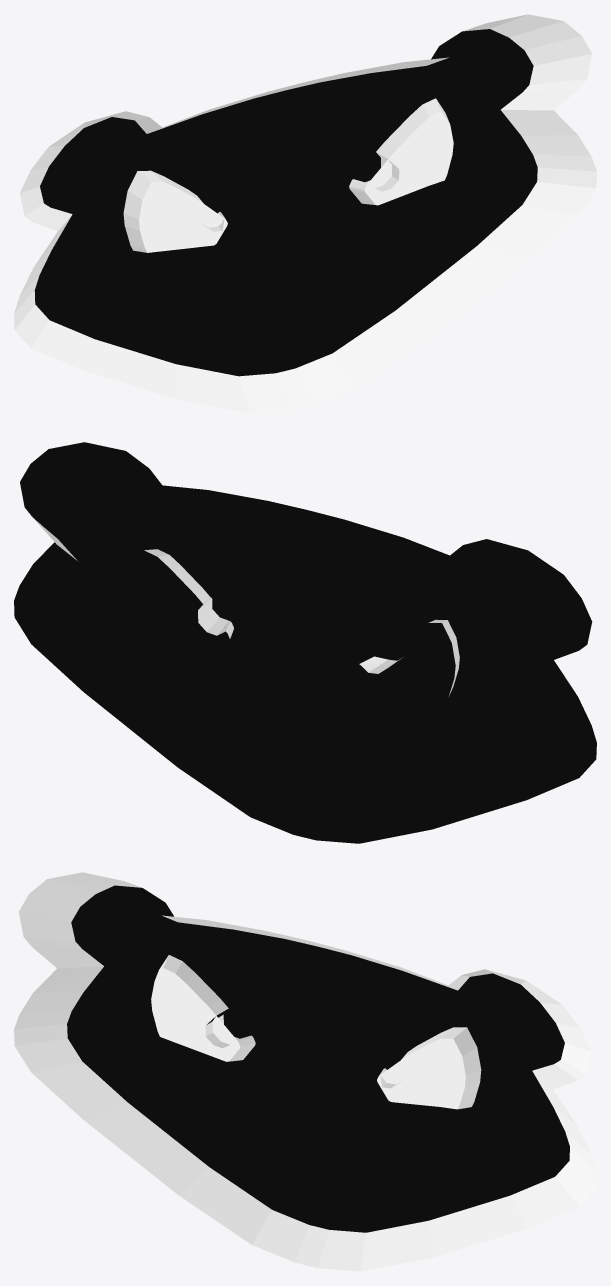
The model's file is ps2_save-icons_furfightersviggosrevenge.glb.
The picture shows the model from 3 angles, top to bottom: view 1: azimuth 30°, elevation 25°; view 2: azimuth 150°, elevation 25°; view 3: azimuth 330°, elevation 25°; orthographic projection.
Visible parts, largest first — view 1: svicon1.ico; view 2: svicon1.ico; view 3: svicon1.ico.
Part boxes in pixels (x1,y1,x2,y2): svicon1.ico: (14, 14, 596, 413); svicon1.ico: (14, 442, 596, 843); svicon1.ico: (14, 872, 596, 1271).
Bounding box in the file's own units: 2.58 × 1.45 × 0.1357.
Materials: 1 (1 with a texture image).
